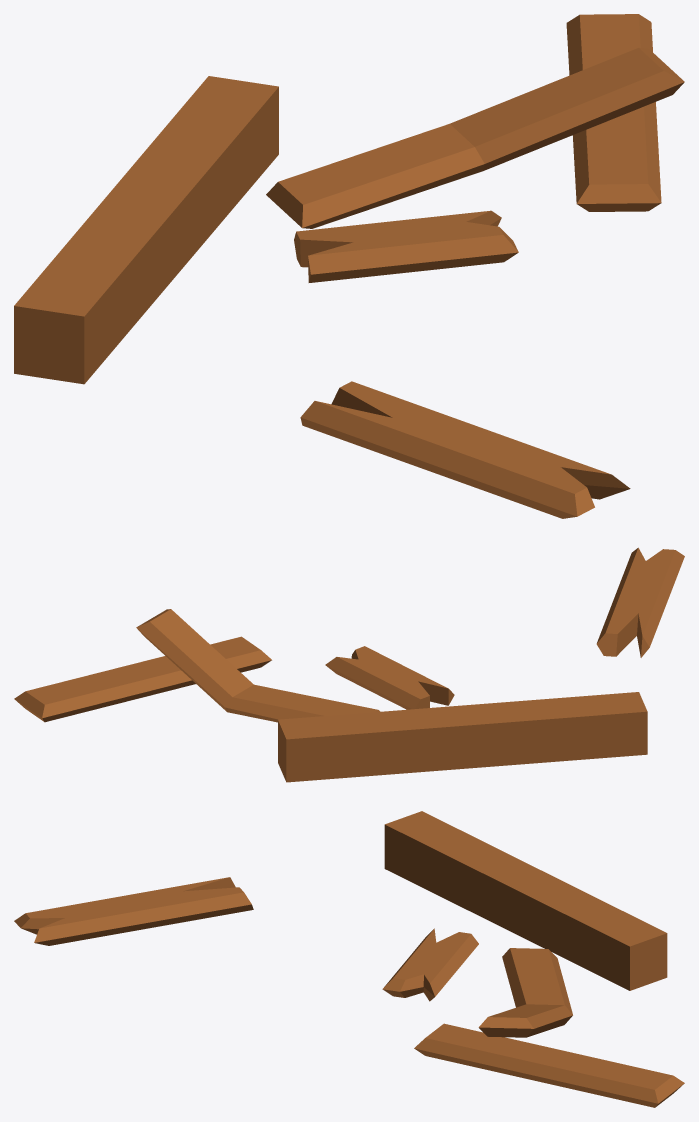
The model's file is maderas rotas.fbx.
3 renders of one model, top to bottom at view 1: azimuth 30°, elevation 25°; view 2: azimuth 150°, elevation 25°; view 3: azimuth 270°, elevation 25°, orthographic. The views are drawn at different scales.
Parts seen in each view (by area): view 1: wooden box.044, wooden box.039, wooden box.037, wooden box.038, wooden box.032; view 2: wooden box.044, wooden box.039, wooden box.038, wooden box.037, wooden box.032; view 3: wooden box.044, wooden box.038, wooden box.037, wooden box.039, wooden box.032.
Boxes of the visible parts, x1,y1,x2,y2 form: wooden box.044: (14, 76, 278, 384); wooden box.039: (266, 47, 684, 228); wooden box.037: (300, 381, 630, 518); wooden box.038: (566, 14, 661, 211); wooden box.032: (294, 210, 518, 282); wooden box.044: (278, 692, 647, 782); wooden box.039: (136, 609, 379, 722); wooden box.038: (14, 636, 271, 722); wooden box.037: (596, 547, 684, 657); wooden box.032: (325, 646, 454, 709); wooden box.044: (384, 811, 667, 990); wooden box.038: (414, 1023, 684, 1107); wooden box.037: (14, 877, 253, 945); wooden box.039: (478, 948, 572, 1037); wooden box.032: (382, 928, 478, 1001).
Bounding box in the file's own units: 89.67 × 10.05 × 97.2.
